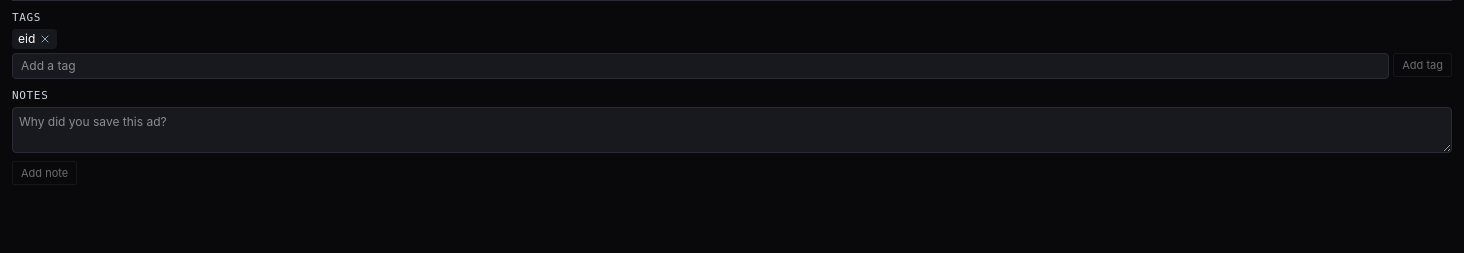
Test: W9-2 #7 tags and notes on a board card › adds and removes tags and notes through the API
In the field labelled "Add a tag": (701, 66) [12,53,1389,79], type " UGC "
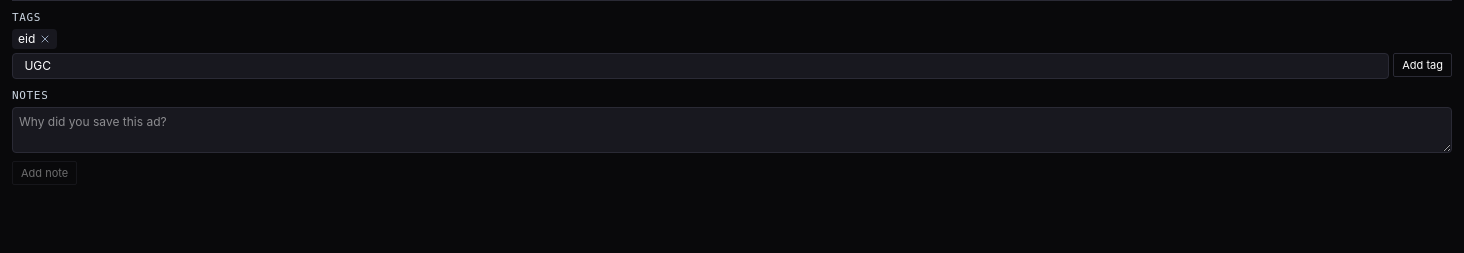
Click the button "Add tag": (1423, 65) [1393,53,1452,77]
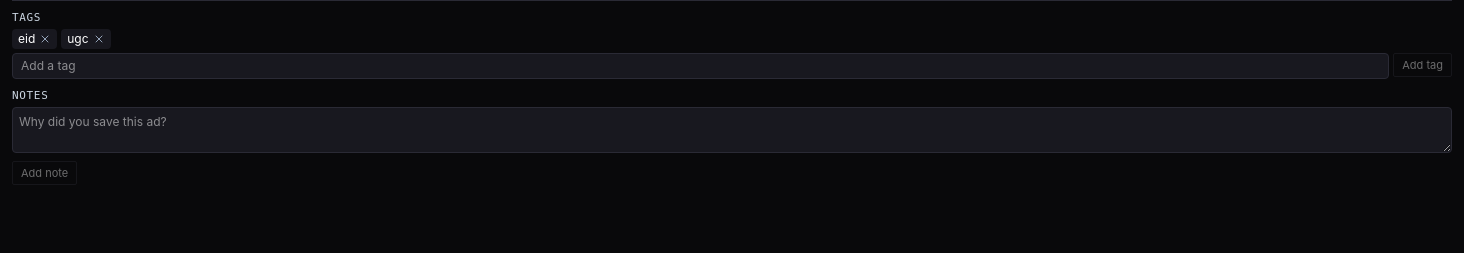
Check: the list item "ugc" is shown, box [61,29,111,49]
Click the button named "Remove tag eid": (45, 39) [39,33,51,45]
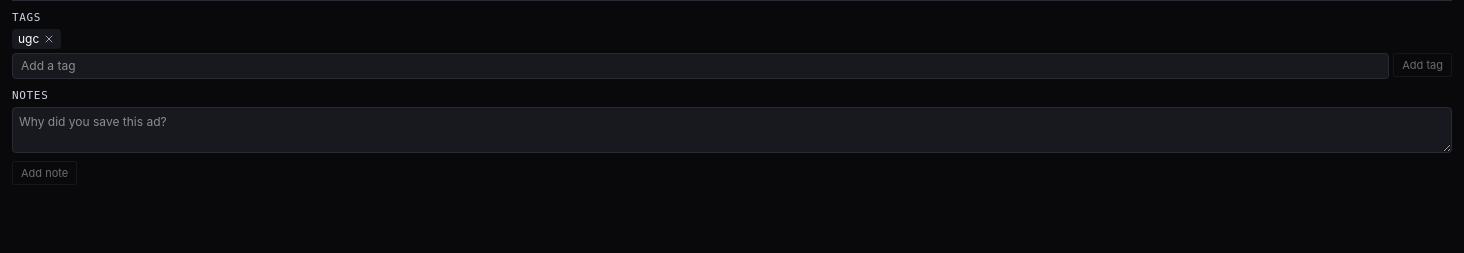
Check: the list item "eid" is gone
In the text box labelled "Why did you save this ad?": (732, 130) [12,107,1452,153], type "Great hook"
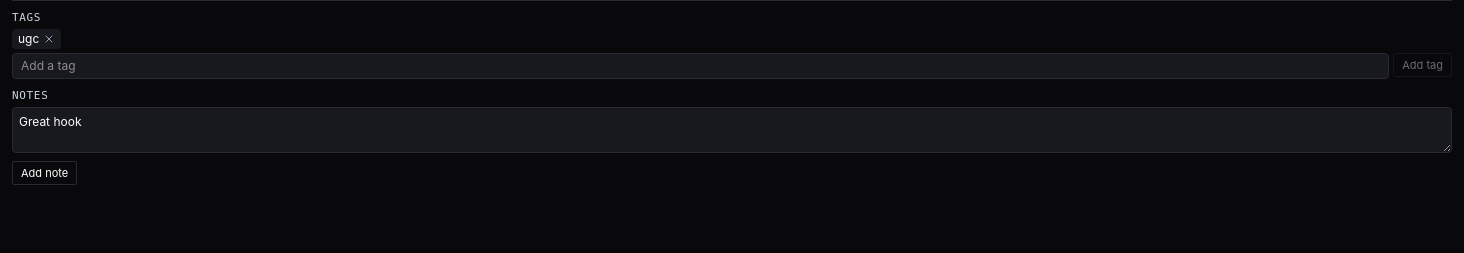
Click the button "Add note": (45, 173) [12,161,77,185]
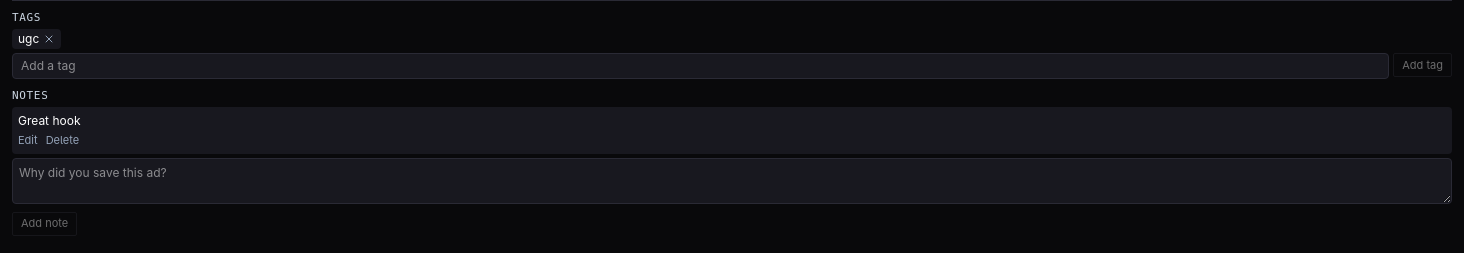
Check: the text box "Great hook" is shown, box [12,158,1452,204]
Click the button "Delete": (62, 140) [46,133,79,148]
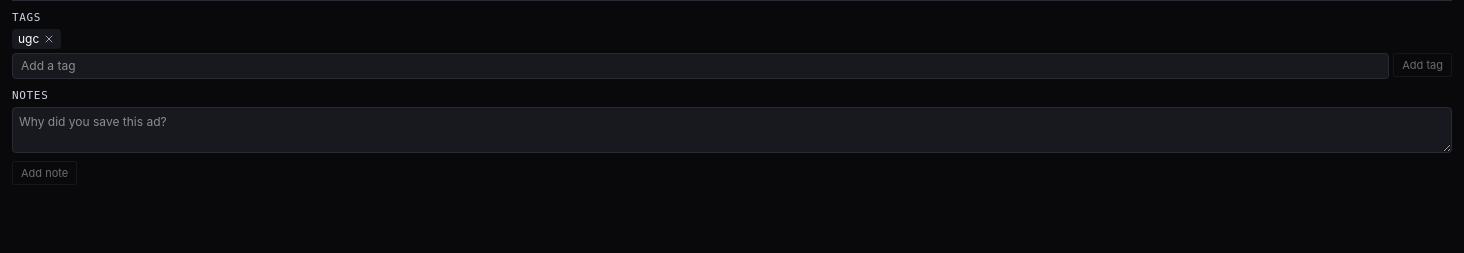
Check: the text "Great hook" is gone
